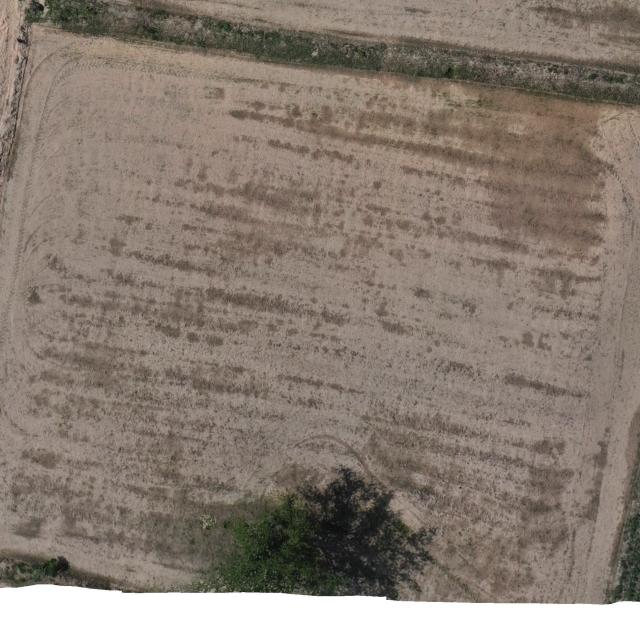Tree: (197, 487, 356, 598)
